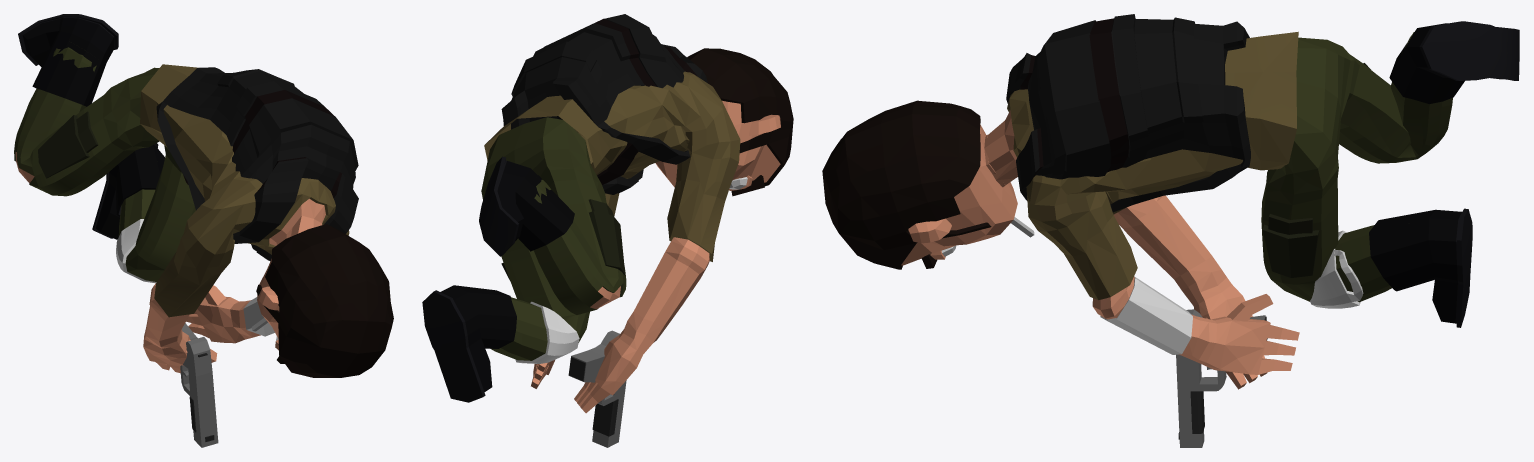
File: frame_0019.obj
3 renders of one model, left to right at view 1: azimuth 30°, elevation 25°; view 2: azimuth 150°, elevation 25°; view 3: azimuth 270°, elevation 25°, orthographic. The views are drawn at different scales.
Parts seen in each view (by area): view 1: Body, Gun; view 2: Body, Gun; view 3: Body, Gun.
Part boxes in pixels (x1=…): Body: x1=14, y1=14, x2=393, y2=377; Gun: x1=180, y1=323, x2=218, y2=447; Body: x1=422, y1=14, x2=793, y2=413; Gun: x1=568, y1=330, x2=626, y2=447; Body: x1=822, y1=14, x2=1519, y2=389; Gun: x1=1176, y1=309, x2=1267, y2=447.
Bounding box in the file's own units: 1.36 × 2.39 × 3.41.
